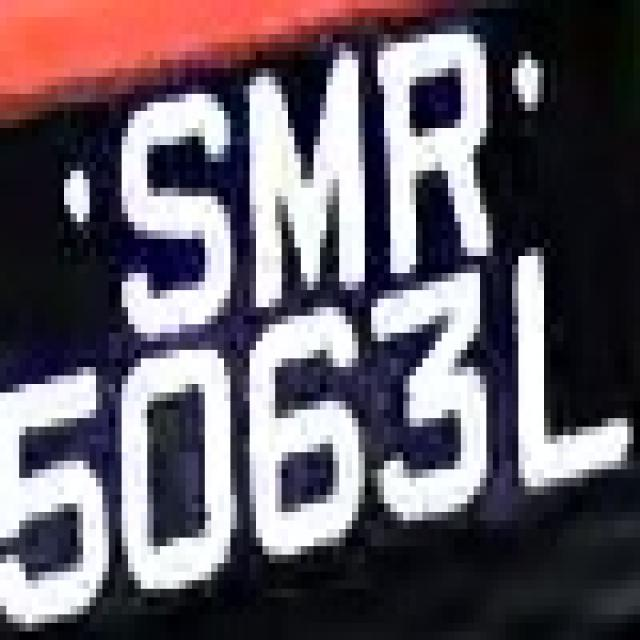0: (102, 324, 256, 589)
3: (358, 248, 493, 546)
5: (6, 350, 109, 640)
6: (224, 273, 378, 580)
L: (512, 222, 634, 503)
M: (224, 51, 378, 316)
R: (365, 34, 512, 273)
S: (90, 86, 243, 342)
